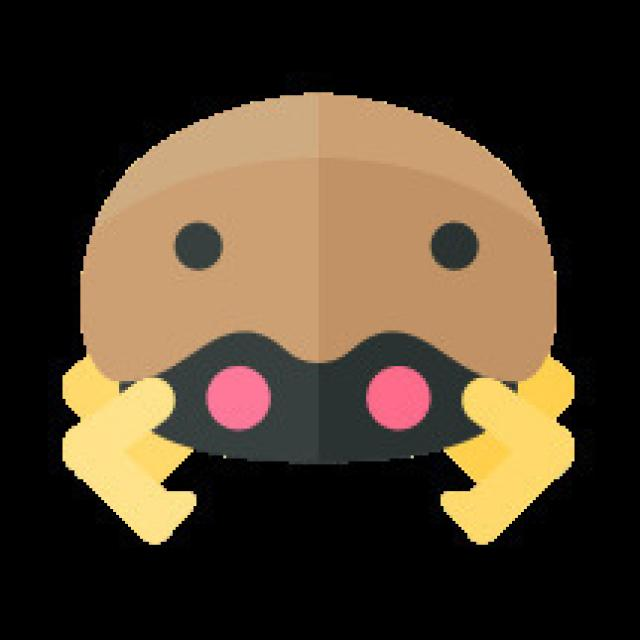Kabuto: (42, 78, 598, 571)
